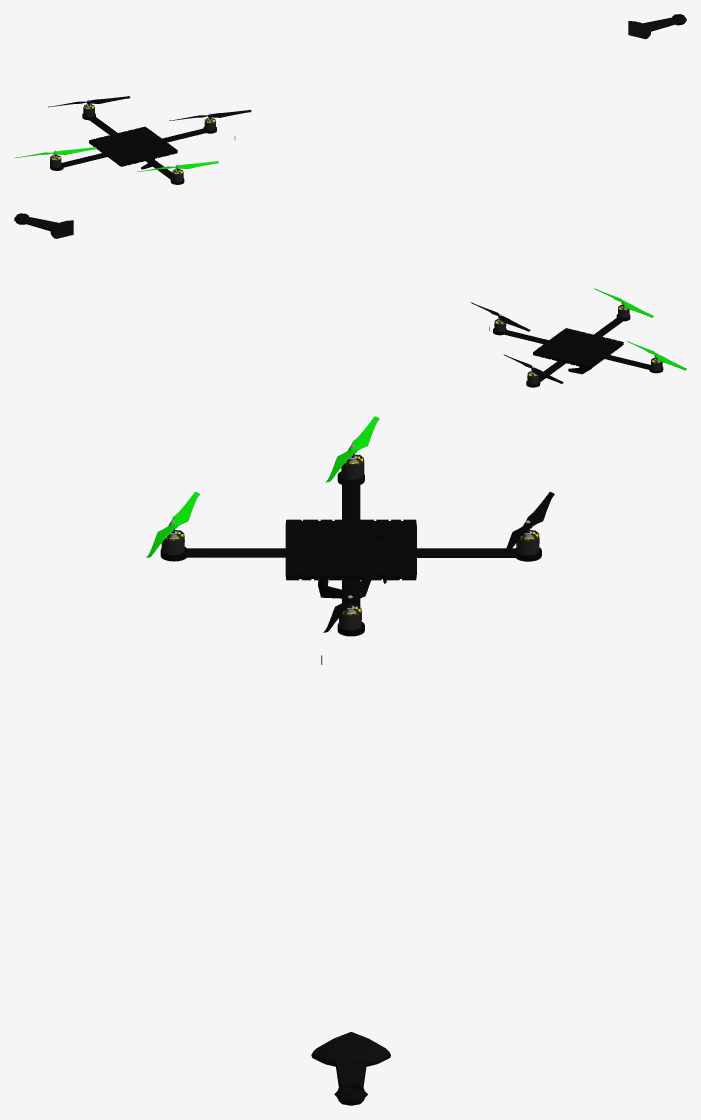
The model's file is uav15.fbx.
The picture shows the model from 3 angles, top to bottom: view 1: azimuth 30°, elevation 25°; view 2: azimuth 150°, elevation 25°; view 3: azimuth 270°, elevation 25°; orthographic projection. The views are drawn at different scales.
Visible parts, largest first — view 1: pCube56, pCylinder9, pCylinder115, pCylinder116; view 2: pCube56, pCylinder9, pCylinder115, pCylinder116; view 3: pCube56, pCylinder9, pCylinder114, pCylinder117.
Boxes of the visible parts, <box> form: pCube56: <box>89,126,177,166</box>; pCylinder9: <box>628,14,686,39</box>; pCylinder115: <box>50,153,107,170</box>; pCylinder116: <box>162,126,216,142</box>; pCube56: <box>533,328,623,368</box>; pCylinder9: <box>14,213,73,238</box>; pCylinder115: <box>605,355,663,373</box>; pCylinder116: <box>493,328,548,344</box>; pCube56: <box>285,519,416,580</box>; pCylinder9: <box>311,1032,390,1105</box>; pCylinder114: <box>160,547,285,561</box>; pCylinder117: <box>417,547,541,561</box>.
Size of the model in its own units: 145 by 6.64 by 38.53.
